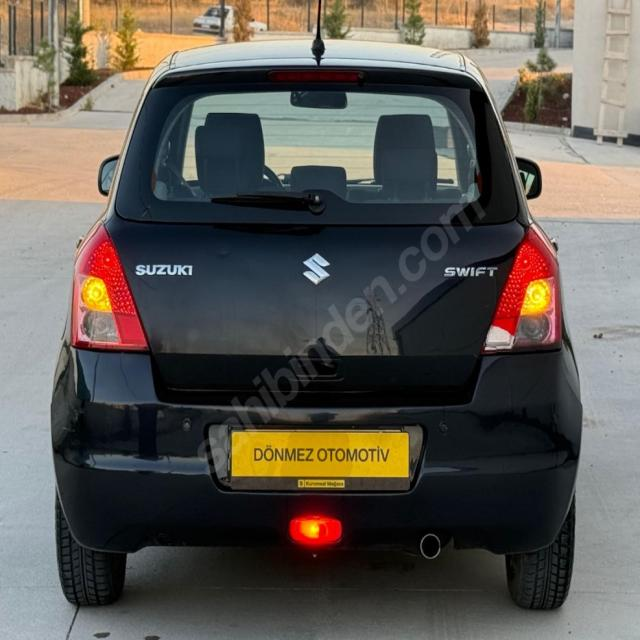suzuki: (300, 249, 332, 287)
